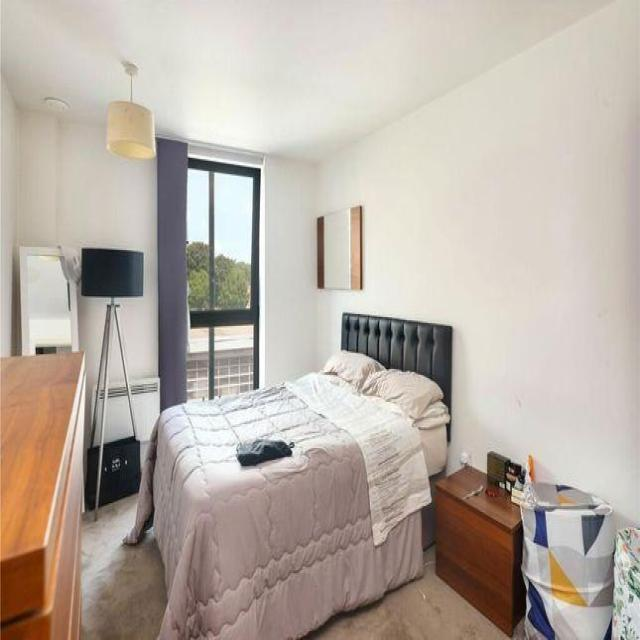Wall: (260, 0, 640, 525), (316, 0, 640, 526), (3, 1, 609, 160), (0, 81, 157, 378), (307, 548, 508, 638), (260, 156, 317, 385), (81, 496, 166, 638), (118, 279, 160, 453), (79, 296, 109, 447), (79, 298, 105, 436), (105, 324, 132, 442)
